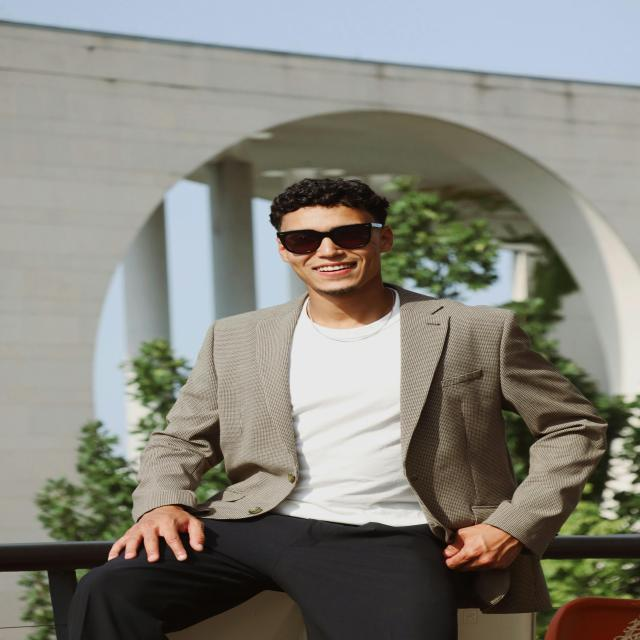human: (61, 174, 615, 640)
